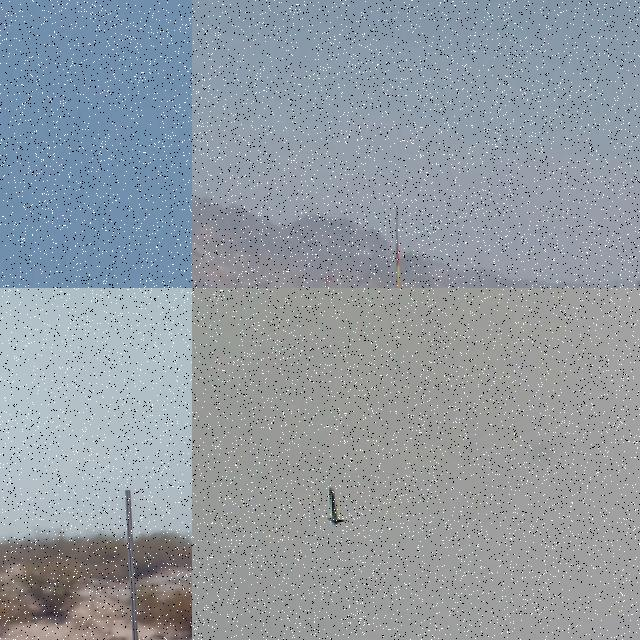Rocket: (326, 486, 346, 525), (393, 249, 401, 288)
